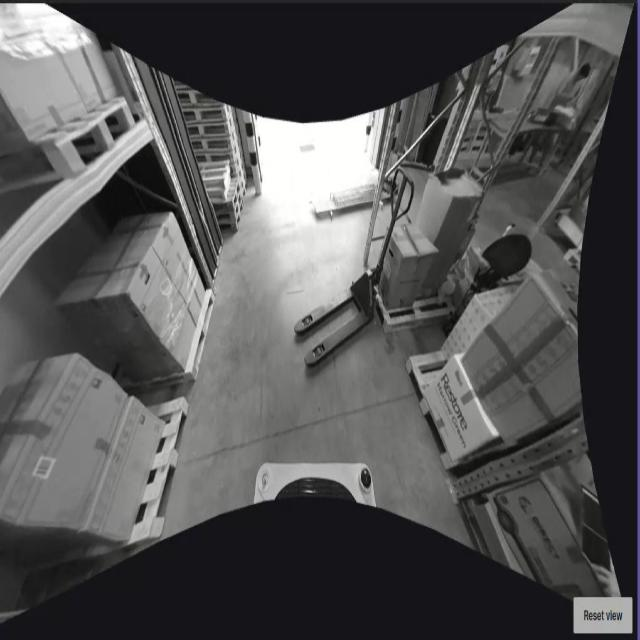Pallets-and-forklifts: (7, 91, 137, 198), (130, 408, 194, 537), (402, 337, 462, 473), (152, 285, 219, 397), (208, 171, 250, 236)
forlift: (293, 154, 423, 373)
